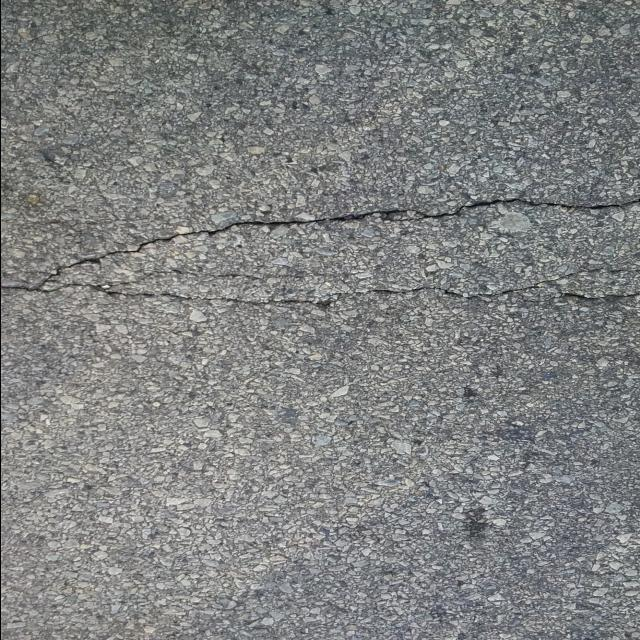pothole: (40, 176, 632, 267), (31, 267, 618, 328)
